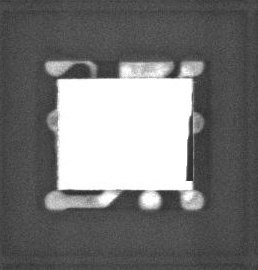DIE_BROKEN: (185, 112, 195, 184)
